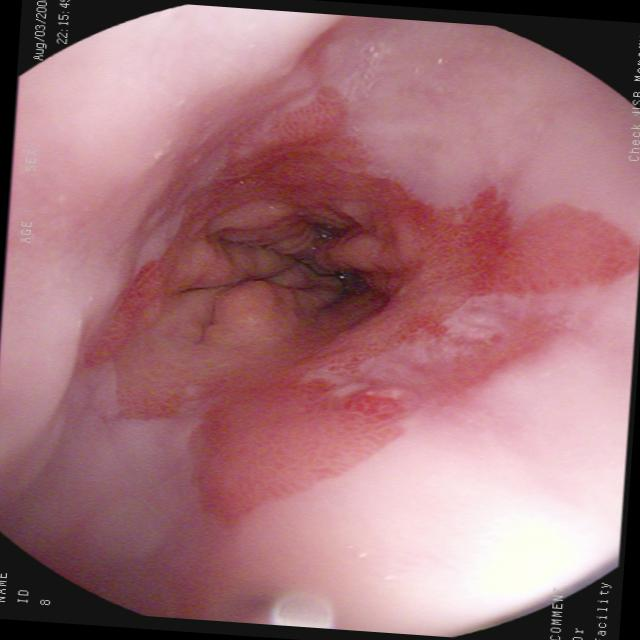esophagitis: (77, 25, 640, 531)
